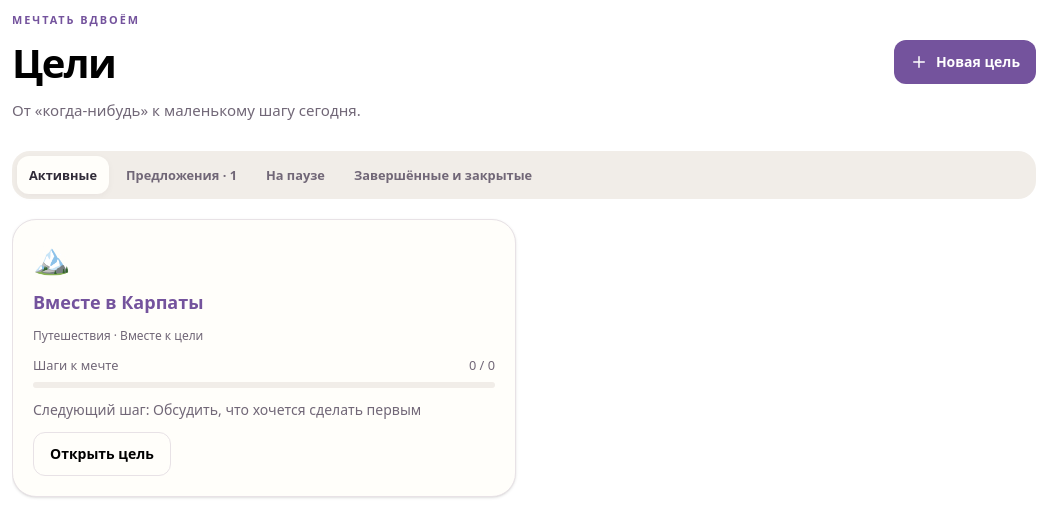
filters show waiting, paused and completed goals without losing active data
This screenshot has width=1048, height=515.
Click the button "Предложения · 1". click: [182, 175]
box: [114,156,249,194]
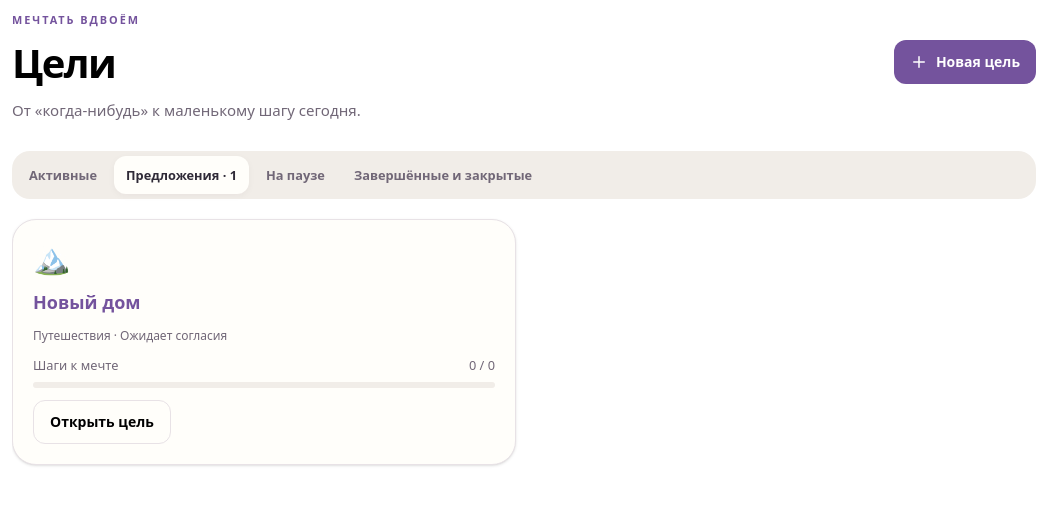
expect the link "Новый дом" is shown: met, box [33,290,140,314]
Click the button "На паузе". click: [295, 175]
box: [254,156,337,194]
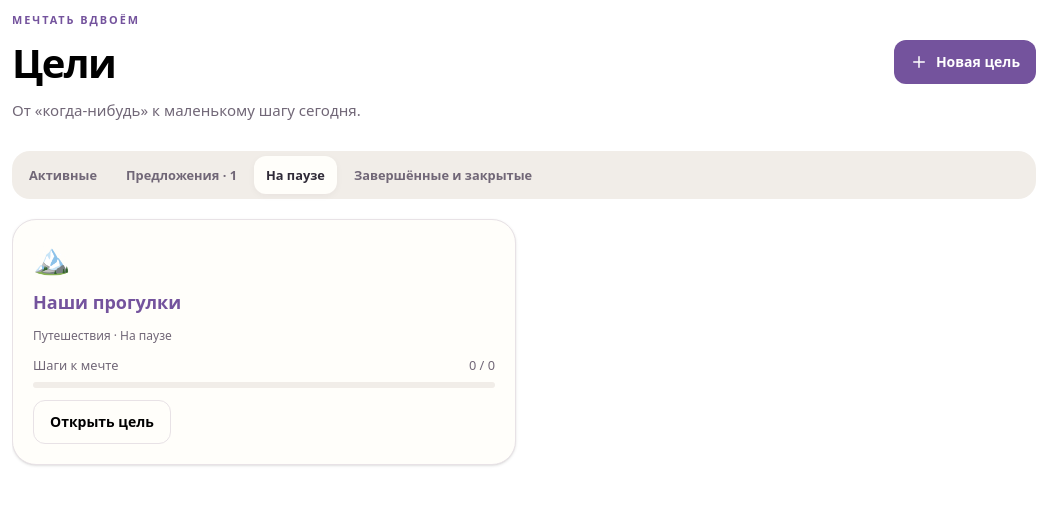
expect the link "Наши прогулки" is shown: met, box [33,290,181,314]
Click the button "Завершённые и закрытые". click: [443, 175]
box: [342,156,544,194]
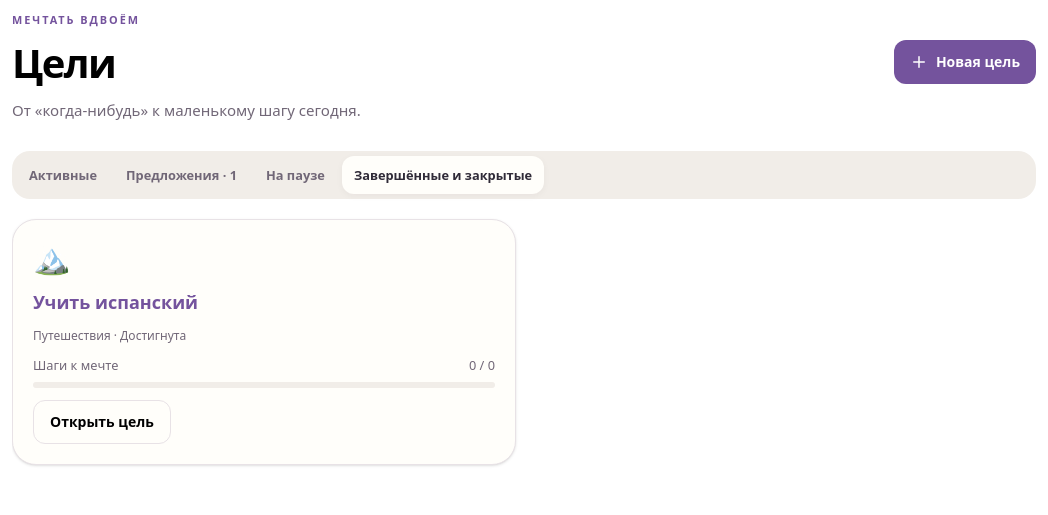
expect the link "Учить испанский" is shown: met, box [33,290,198,314]
